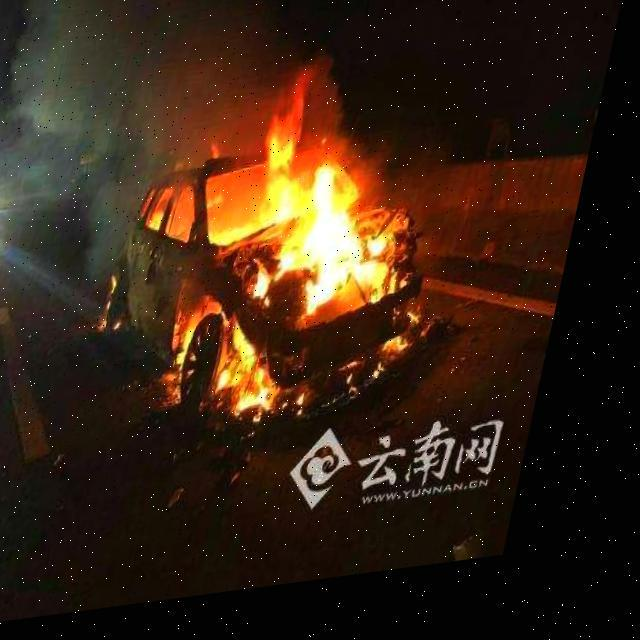Fire: (148, 66, 480, 454)
